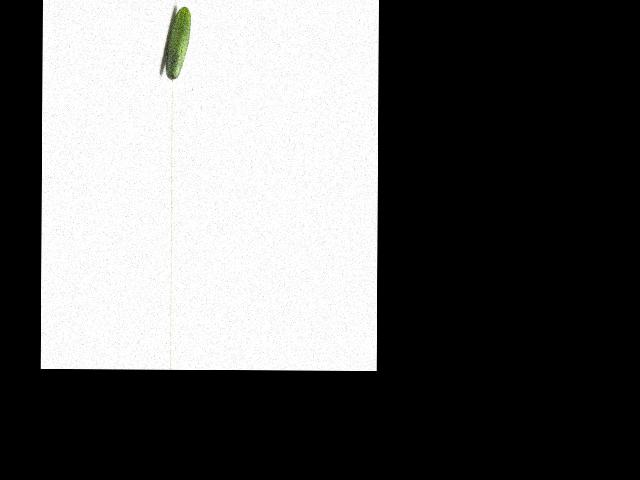cucumber: (164, 7, 191, 81)
